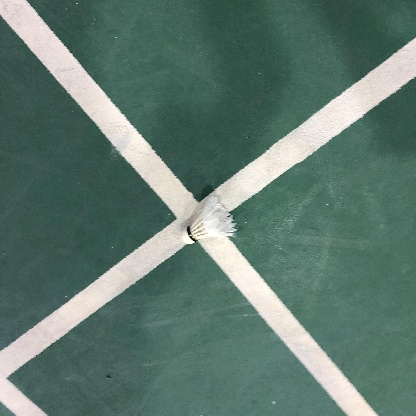ball_single: (181, 196, 238, 244)
